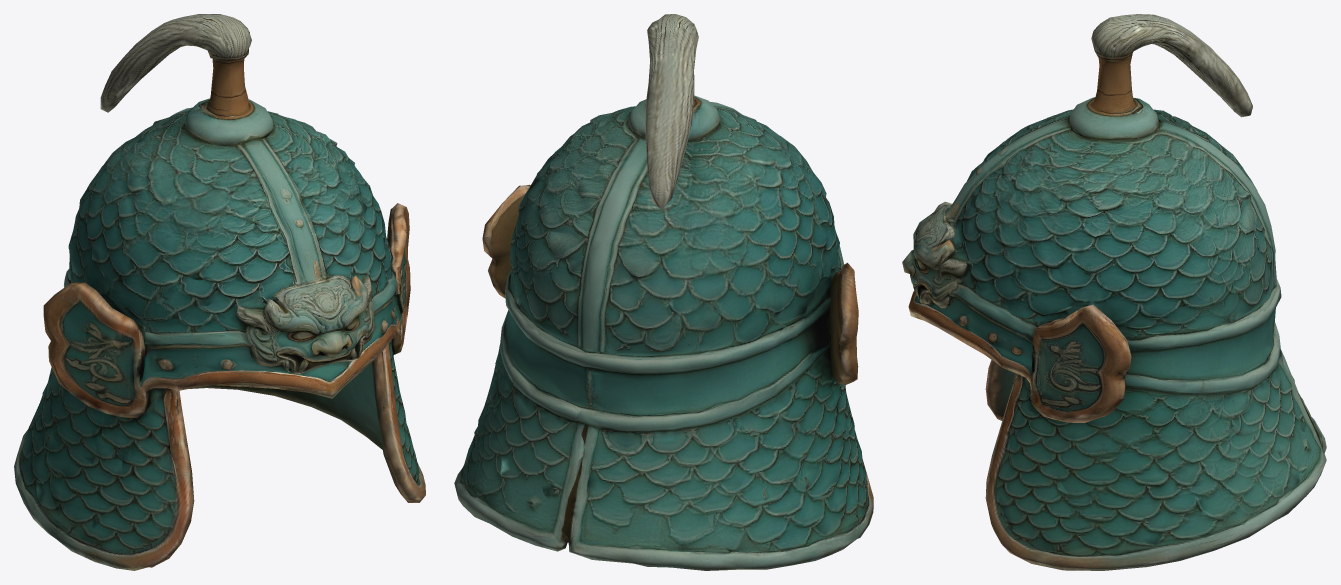
File: guofengtoukui8.fbx
The picture shows the model from 3 angles, left to right: view 1: azimuth 30°, elevation 25°; view 2: azimuth 150°, elevation 25°; view 3: azimuth 270°, elevation 25°; orthographic projection. The views are drawn at different scales.
Parts seen in each view (by area): view 1: node_50c40705; view 2: node_50c40705; view 3: node_50c40705.
Boxes of the visible parts, x1,y1,x2,y2 form: node_50c40705: (14, 14, 425, 570); node_50c40705: (454, 14, 873, 570); node_50c40705: (902, 14, 1326, 570).
Size of the model in its own units: 0.7676 by 0.977 by 0.7928.
